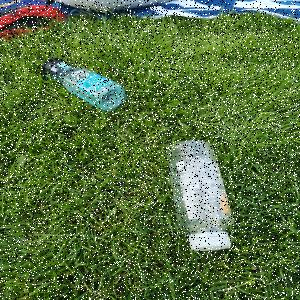Plastic-bottle: (166, 141, 238, 253), (40, 58, 129, 113)
